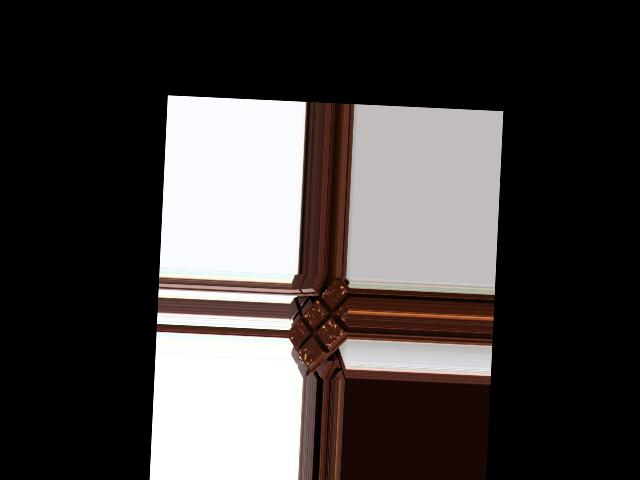chocolate: (288, 276, 350, 367)
